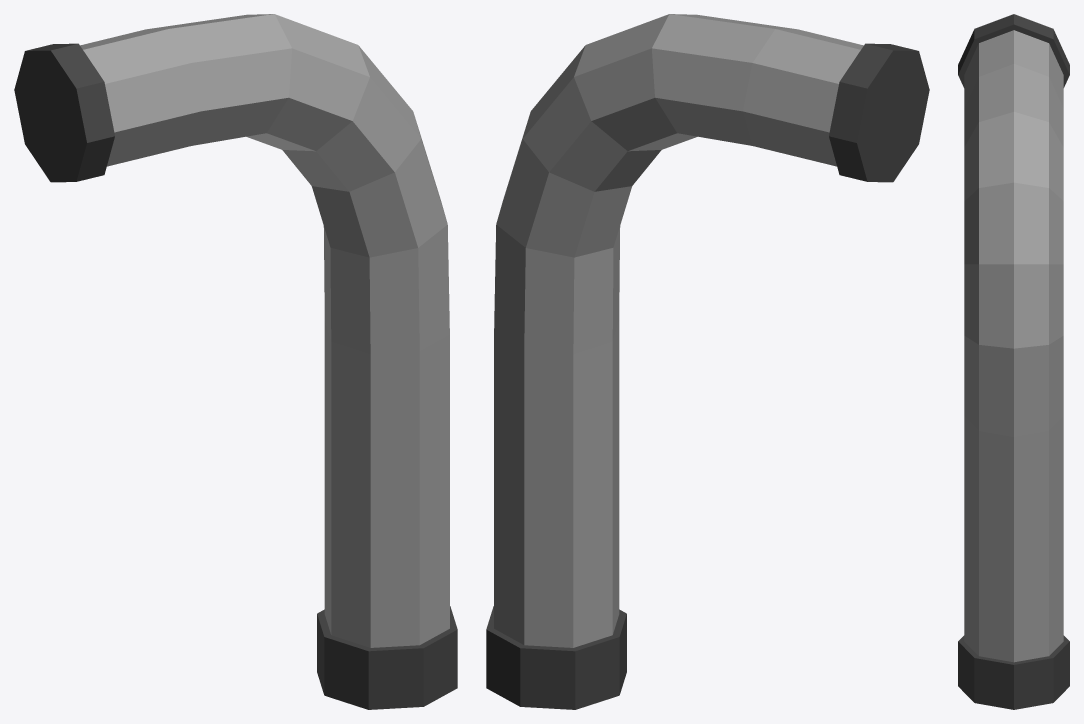
File: CalShipCatWalkEnd.gltf
3 renders of one model, left to right at view 1: azimuth 30°, elevation 25°; view 2: azimuth 150°, elevation 25°; view 3: azimuth 270°, elevation 25°, orthographic. The views are drawn at different scales.
Parts seen in each view (by area): view 1: cylinder; view 2: cylinder; view 3: cylinder.
Boxes of the visible parts, bbox=[...] form: cylinder: bbox=[14, 14, 457, 709]; cylinder: bbox=[486, 14, 929, 709]; cylinder: bbox=[958, 14, 1069, 709].
Bounding box in the file's own units: 0.4452 × 0.7577 × 0.1404.
1 material, 1 textured.
